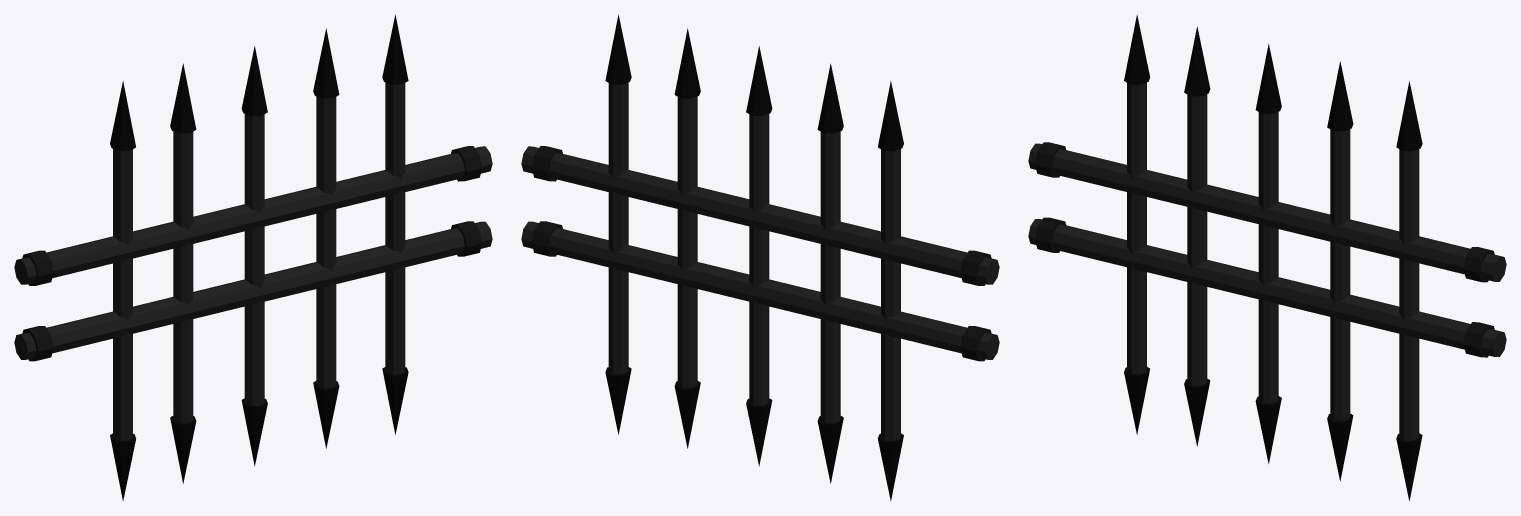
Rendered from Fence_01.fbx.
3 views of the same model, side by side, from view 1: azimuth 30°, elevation 25°; view 2: azimuth 150°, elevation 25°; view 3: azimuth 330°, elevation 25° (orthographic).
Visible parts, largest first — view 1: Fence_01; view 2: Fence_01; view 3: Fence_01.
Boxes of the visible parts, bbox=[...] form: Fence_01: bbox=[14, 14, 492, 501]; Fence_01: bbox=[521, 14, 999, 501]; Fence_01: bbox=[1028, 14, 1506, 501].
Size of the model in its own units: 617 by 539 by 40.2.
